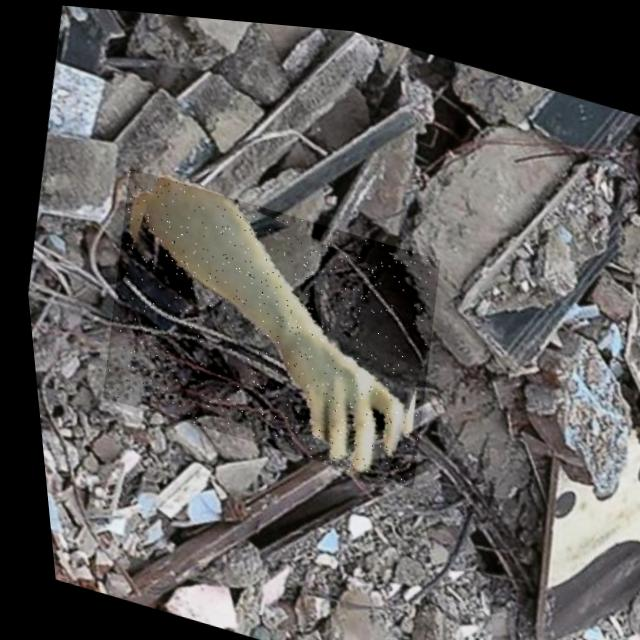Person in Rubble: (75, 162, 452, 485)
